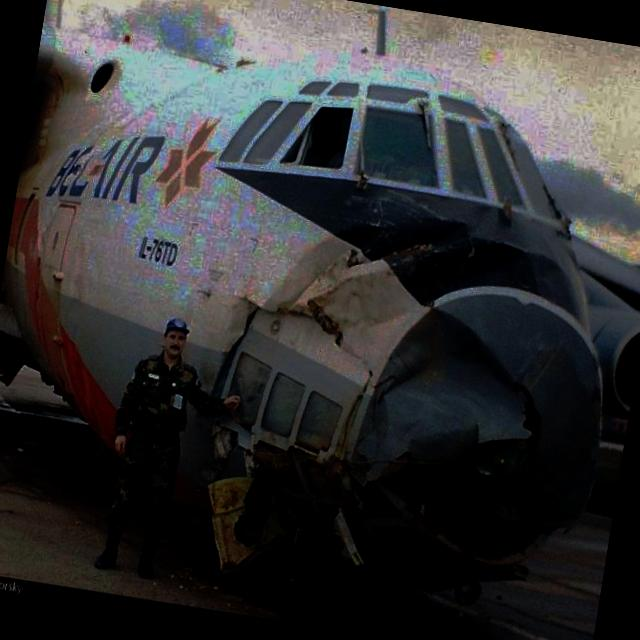crack: (379, 384, 541, 604), (208, 421, 384, 574), (213, 308, 260, 402)
dent: (351, 309, 534, 486), (340, 215, 536, 293), (333, 191, 457, 261)
